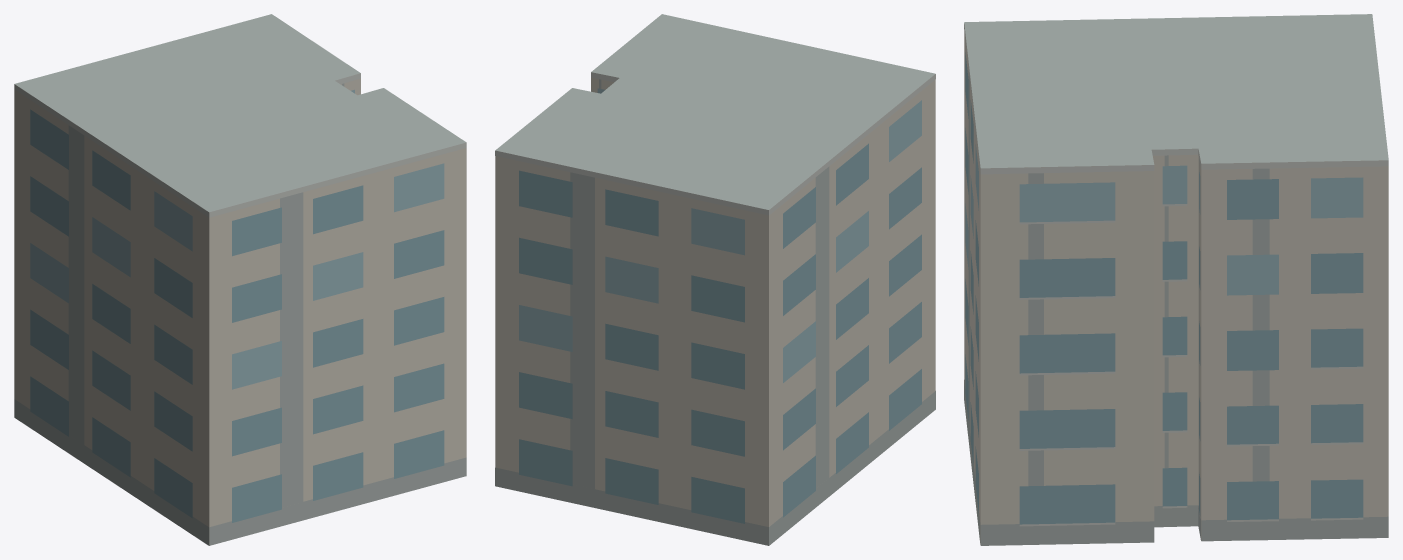
Rendered from survey-upis-32544034.glb.
The picture shows the model from 3 angles, left to right: view 1: azimuth 30°, elevation 25°; view 2: azimuth 150°, elevation 25°; view 3: azimuth 270°, elevation 25°; orthographic projection. The views are drawn at different scales.
Visible parts, largest first — view 1: survey-upis-32544034.tmp; view 2: survey-upis-32544034.tmp; view 3: survey-upis-32544034.tmp.
Part boxes in pixels (bbox=[...]): survey-upis-32544034.tmp: bbox=[14, 14, 466, 545]; survey-upis-32544034.tmp: bbox=[495, 14, 935, 545]; survey-upis-32544034.tmp: bbox=[964, 14, 1388, 545].
Size of the model in its own units: 13.29 by 15.15 by 15.45.
